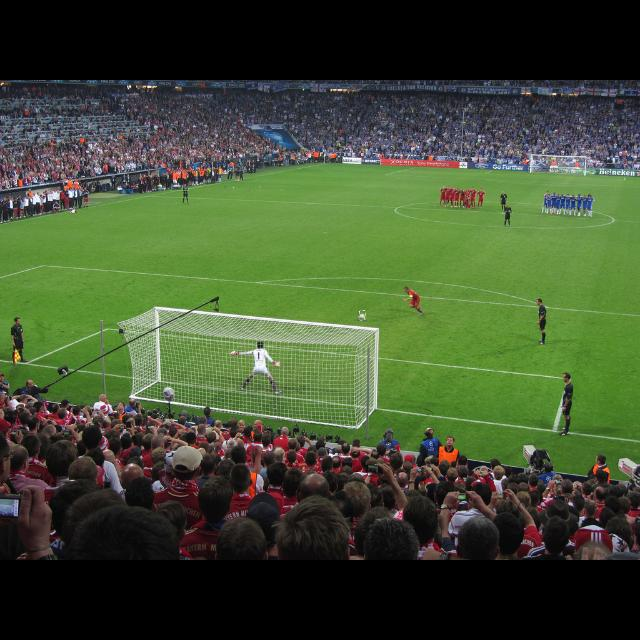Football: (358, 311, 366, 321)
